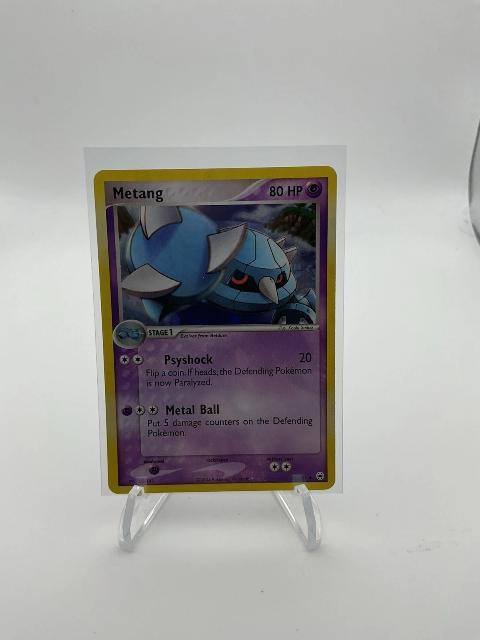Card: (90, 162, 339, 498)
Name: (109, 183, 169, 204)
